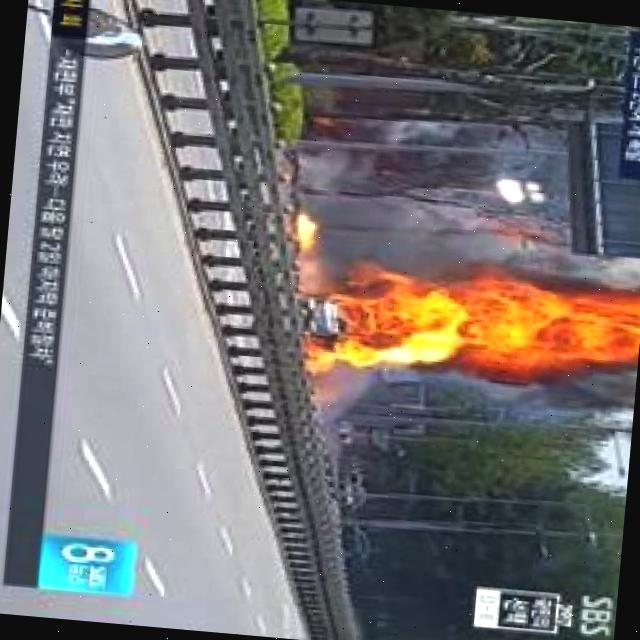fire: (297, 227, 640, 410), (295, 216, 317, 256)
